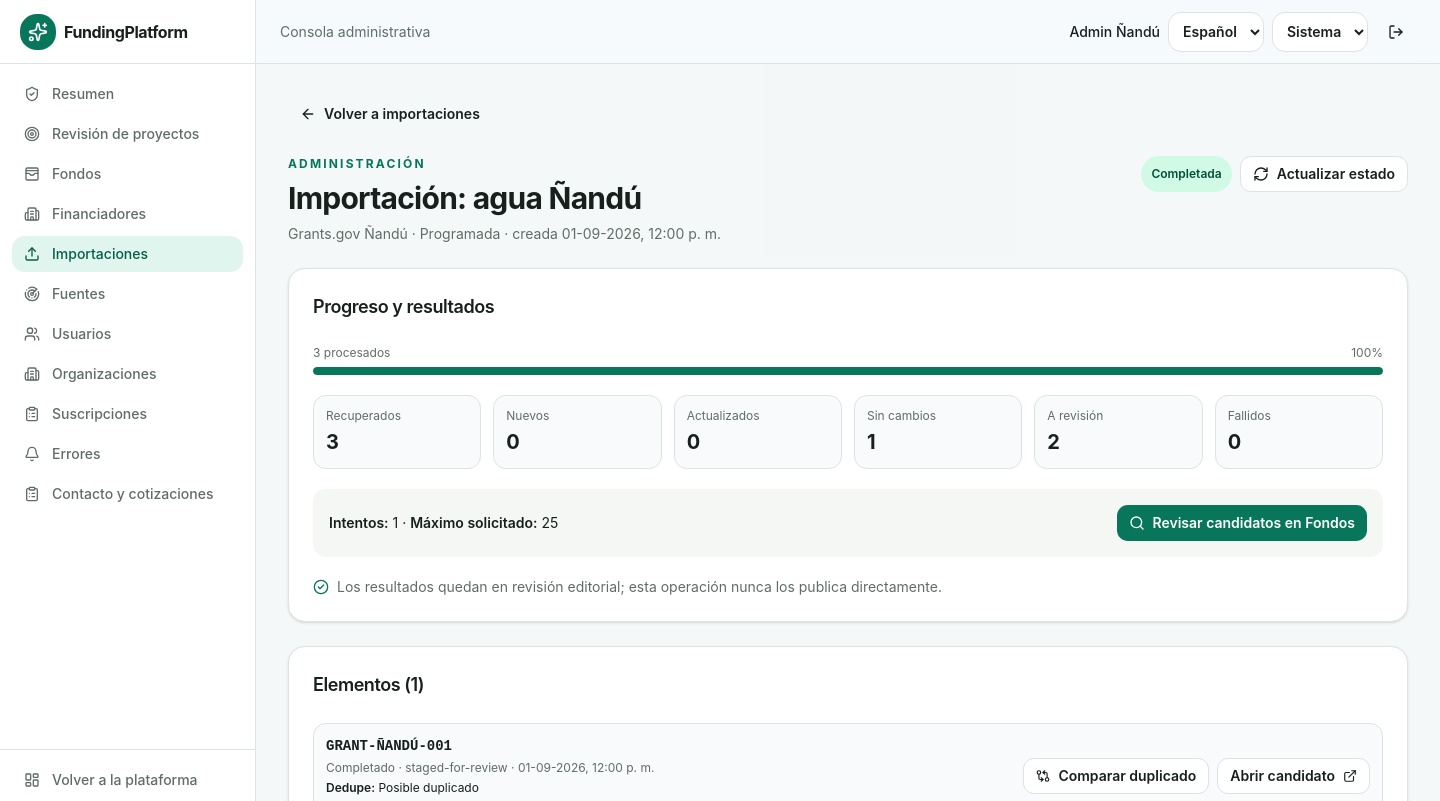
Test: I18N05D import operations › keeps confirmation/reason and explicit decision code for Conservar como fondo separado
Click the button "Comparar duplicado" at (1116, 776), box [1023,758,1209,794]
(page scrolled)
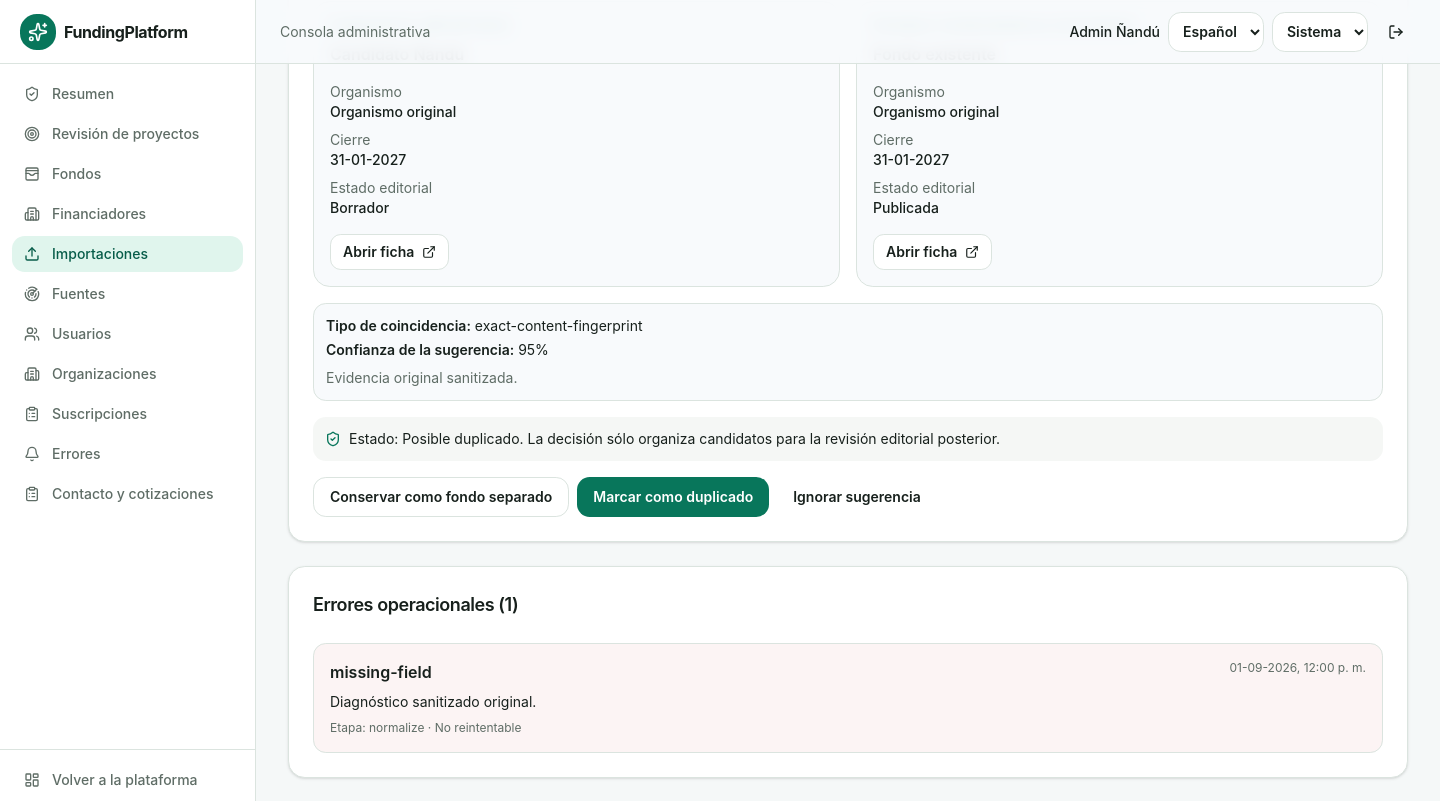
Click the button "Conservar como fondo separado" at (441, 497), box [313,477,569,517]
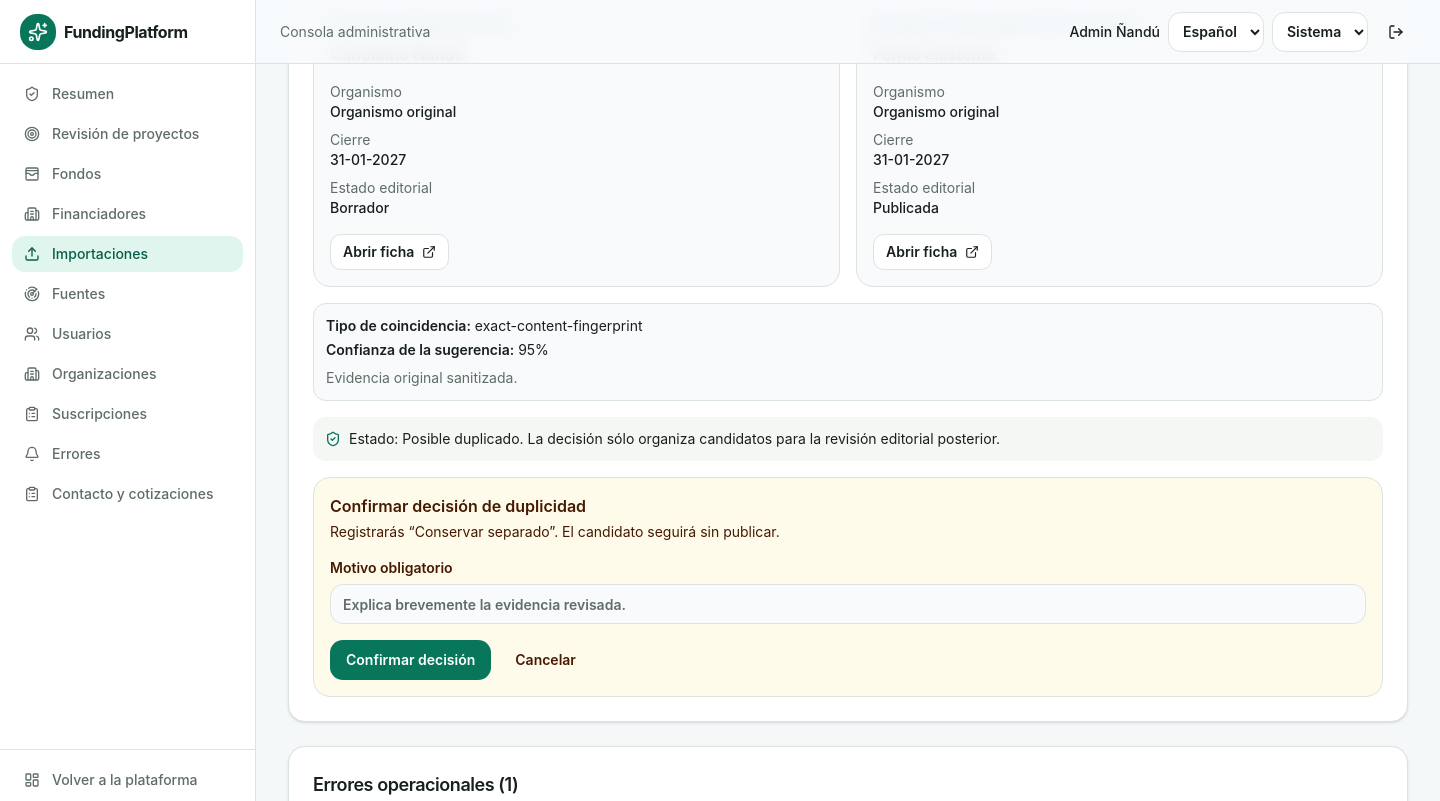
Type "Revisar evidencia original Ñandú" into the field at (848, 604), box [330,584,1366,624]
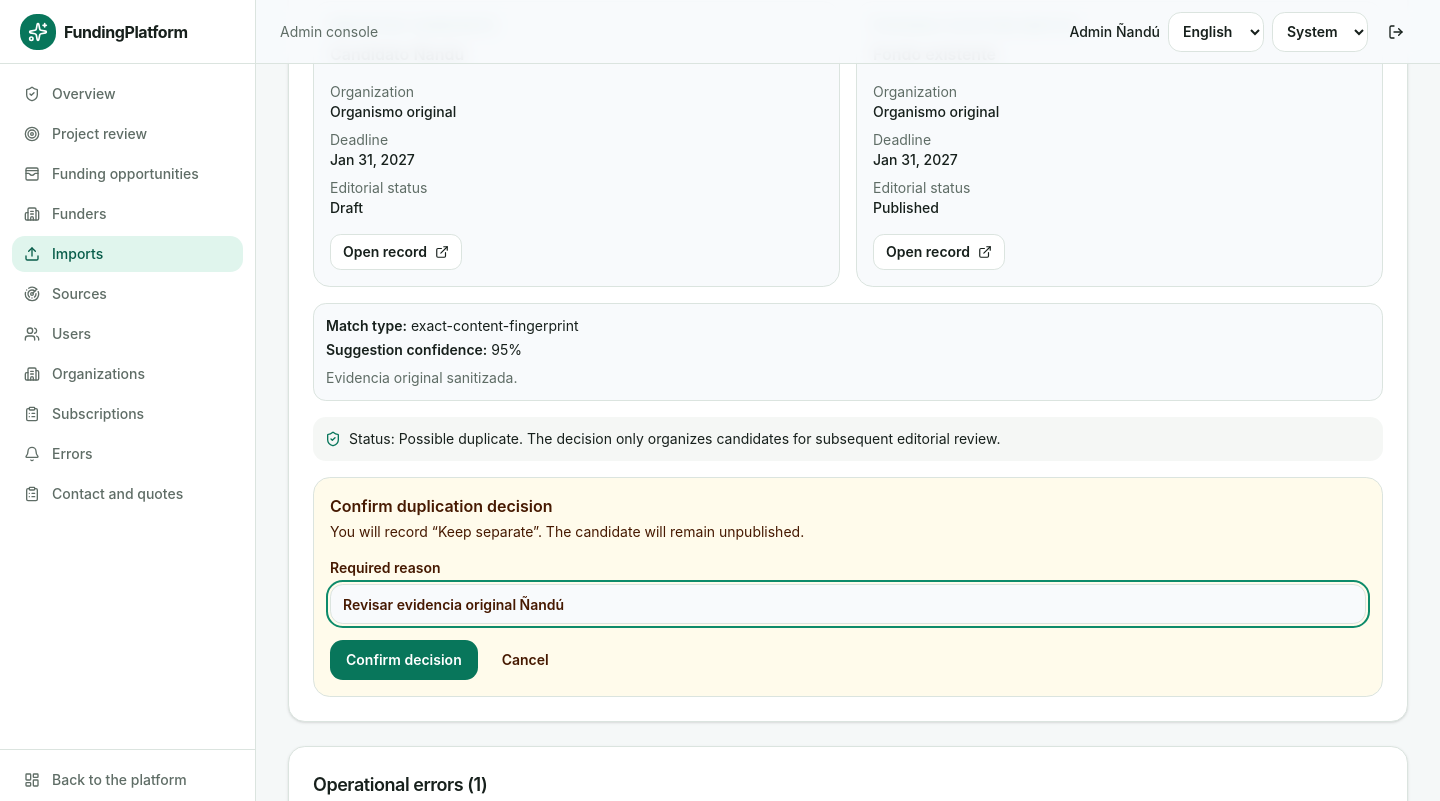
Check: the dialog shows "Keep separate", box [330,523,804,540]
Check: the dialog shows "The candidate will remain unpublished.", box [330,523,804,540]
Click the button "Confirm decision" at (404, 660), box [330,640,478,680]
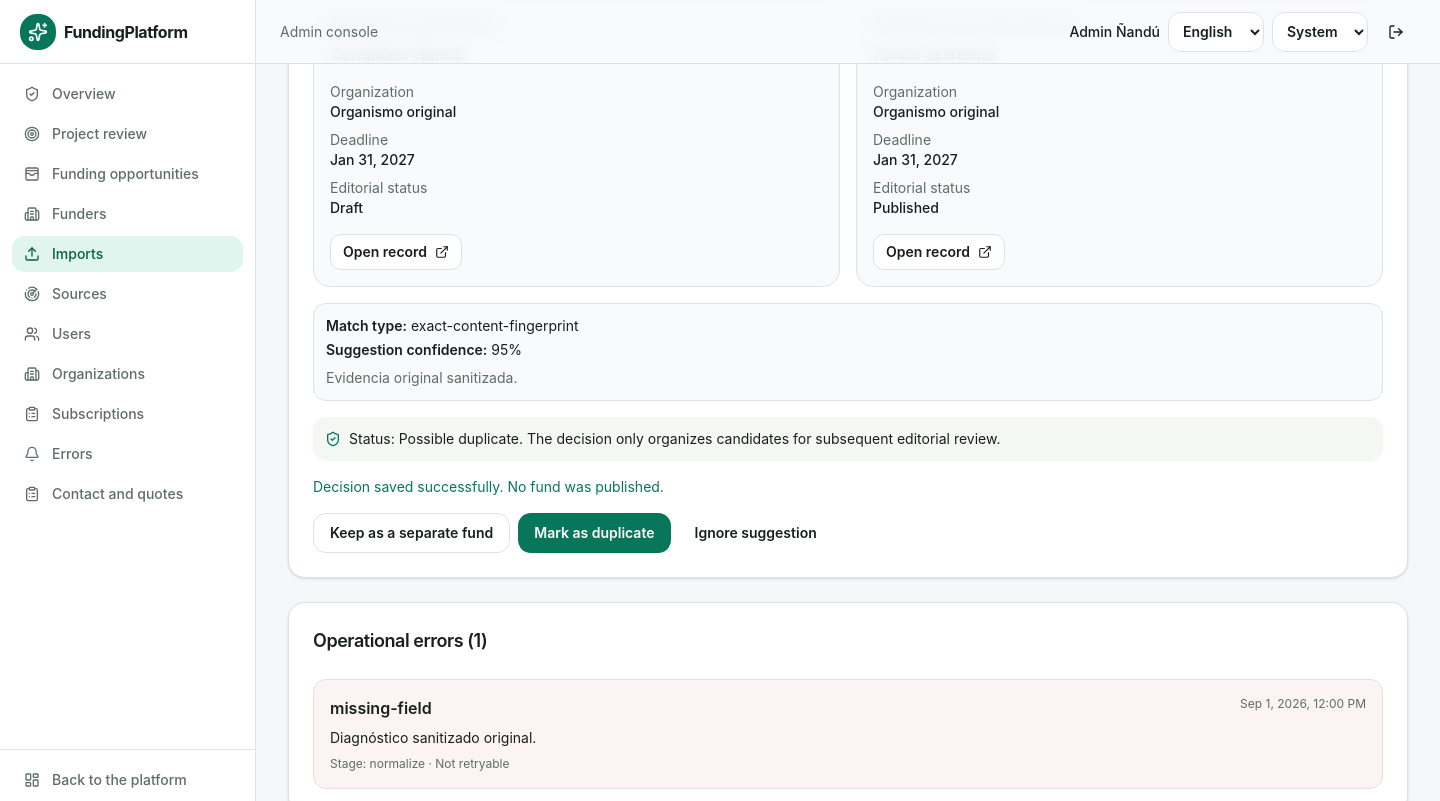
Check: the dialog is gone
Check: the message reads "Decision saved successfully. No fund was published.", box [313,478,664,495]
